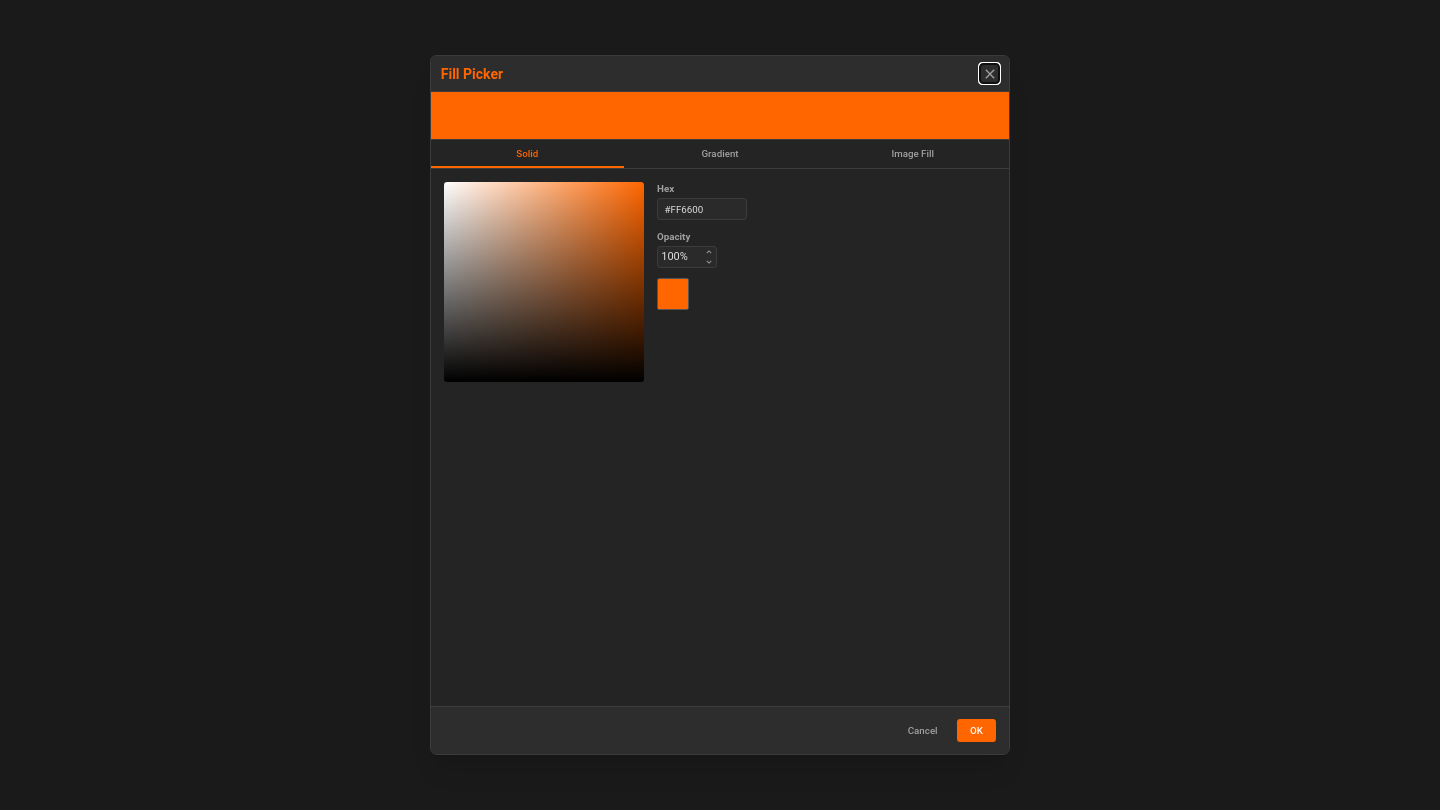
Phase 19B — FillPickerWindow › has gradient type toggle buttons
The width and height of the screenshot is (1440, 810).
Click the tab with test id "fill-tab-gradient". click: {"x": 720, "y": 154}
box: [624, 140, 816, 168]
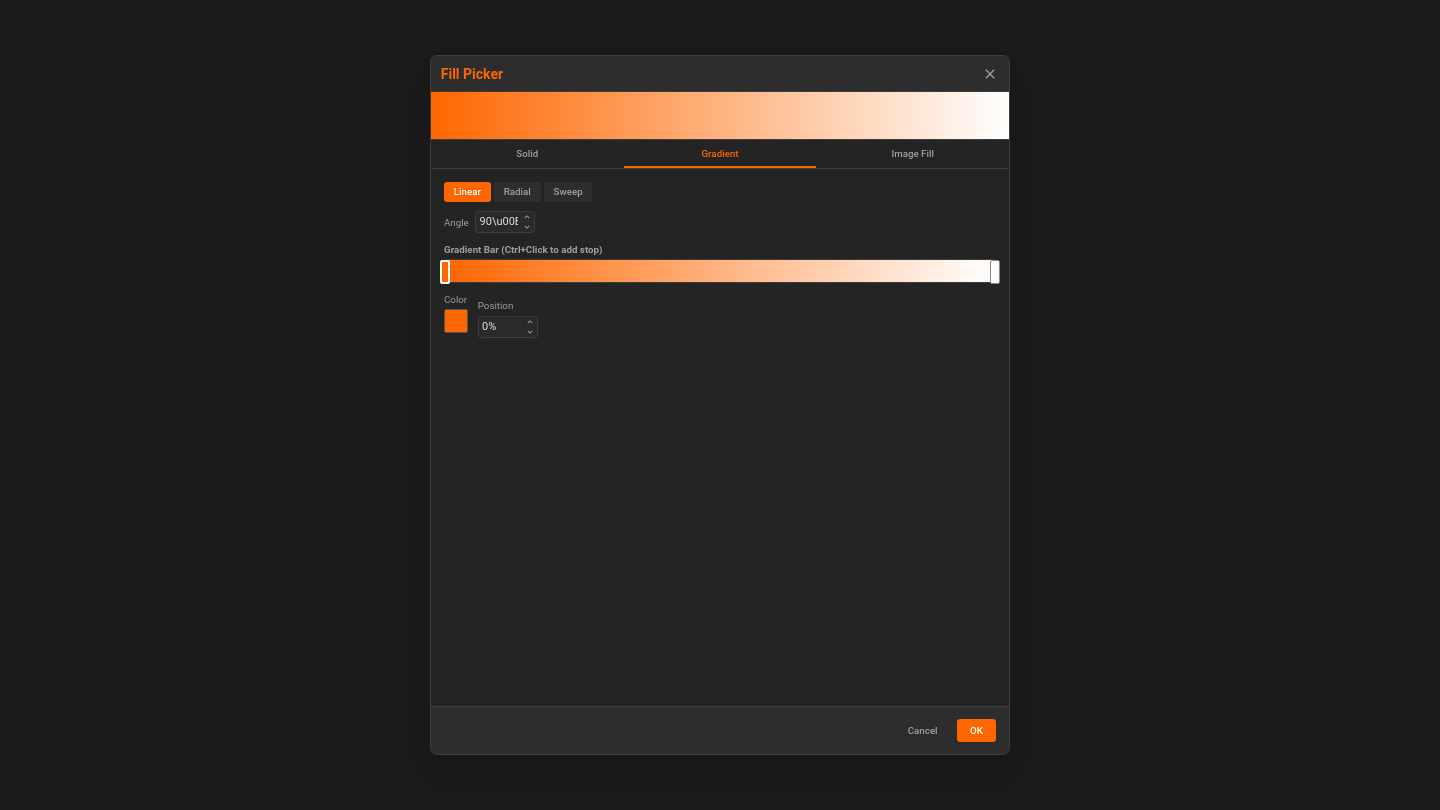
Check: the button with test id "gradient-type-linear" is shown, box [444, 182, 491, 202]
Check: the button with test id "gradient-type-radial" is shown, box [494, 182, 541, 202]
Check: the button with test id "gradient-type-sweep" is shown, box [544, 182, 592, 202]
